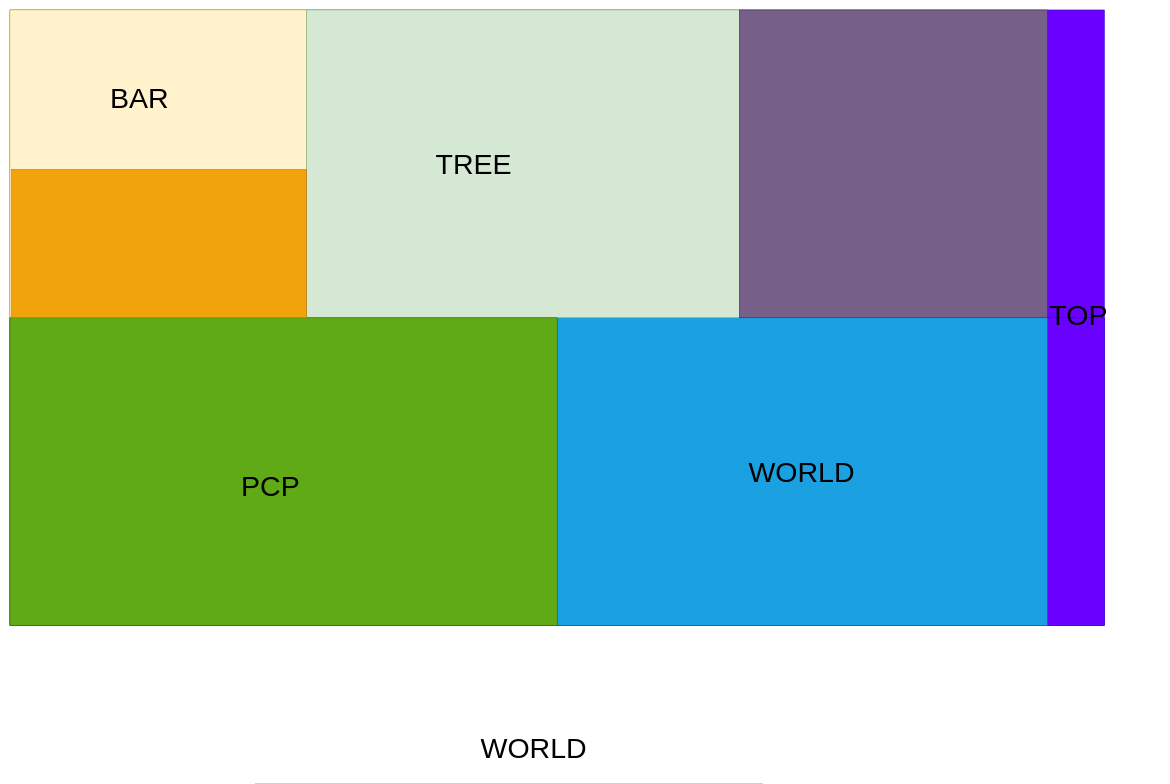
The diagram is 1170 pixels wide and 784 high, and some of its shapes have lost their labels. The box of each missing label's shape, as (x1, y1, x2, y2) in pixels:
PIE: (739, 9, 1047, 318)
SCATTER: (11, 169, 306, 318)
